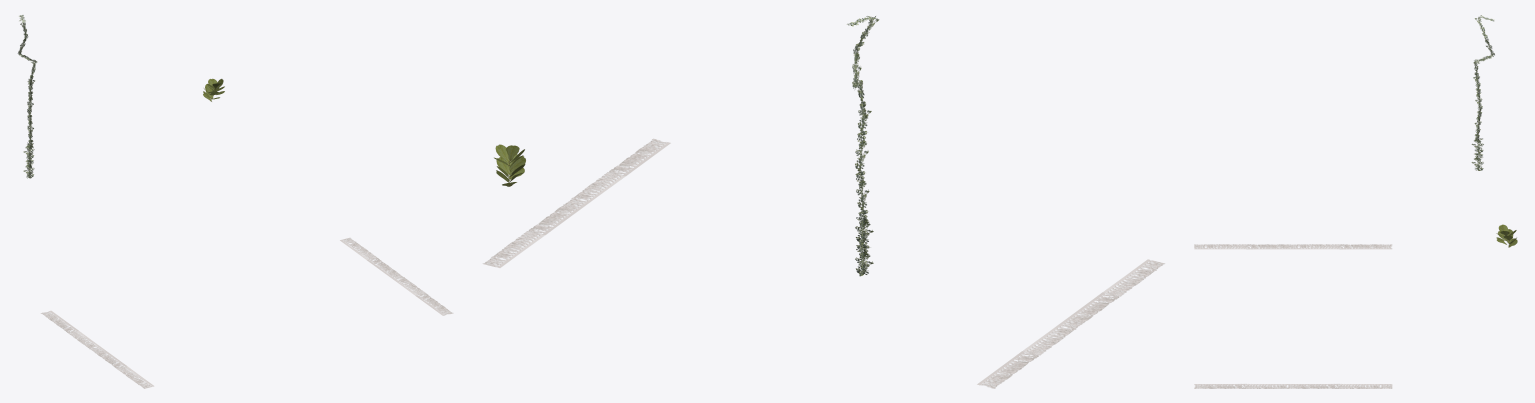
Rendered from leaves.glb.
3 renders of one model, left to right at view 1: azimuth 30°, elevation 25°; view 2: azimuth 150°, elevation 25°; view 3: azimuth 270°, elevation 25°, orthographic. The views are drawn at different scales.
Visible parts, largest first — view 1: Fringes, Vines; view 2: Fringes, Vines, Ficus; view 3: Fringes, Vines, Ficus.
Boxes of the visible parts, box(x1,y1,x2,y2) form: Fringes: box(41, 237, 453, 388); Vines: box(17, 15, 37, 178); Fringes: box(483, 138, 1164, 388); Vines: box(846, 16, 879, 276); Ficus: box(494, 144, 525, 186); Fringes: box(1194, 244, 1392, 388); Vines: box(1471, 15, 1494, 170); Ficus: box(1496, 224, 1517, 247).
Bounding box in the file's own units: 2.7 × 2.1 × 2.58.
Materials: 3 (3 with a texture image).
